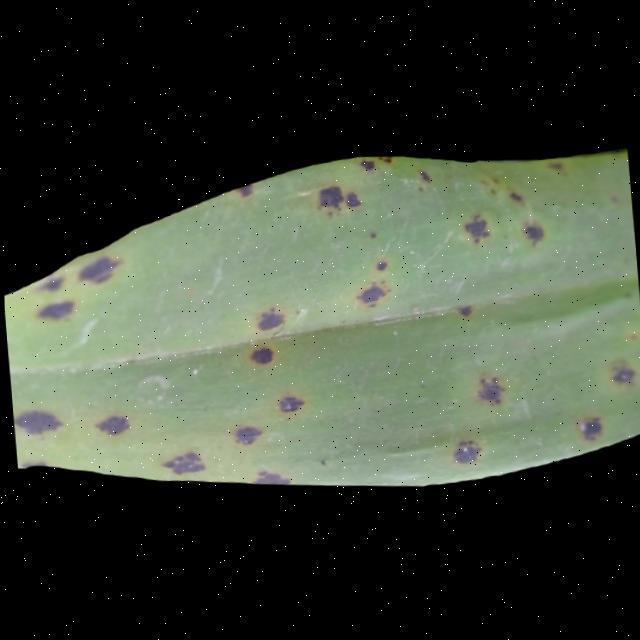mite: (305, 144, 640, 466), (602, 348, 640, 380), (460, 205, 492, 236), (314, 178, 345, 205), (574, 405, 604, 432), (231, 419, 263, 442), (275, 389, 305, 409), (608, 354, 636, 375), (520, 213, 545, 236), (342, 184, 363, 203), (372, 252, 389, 266)
spots: (2, 138, 640, 488)
